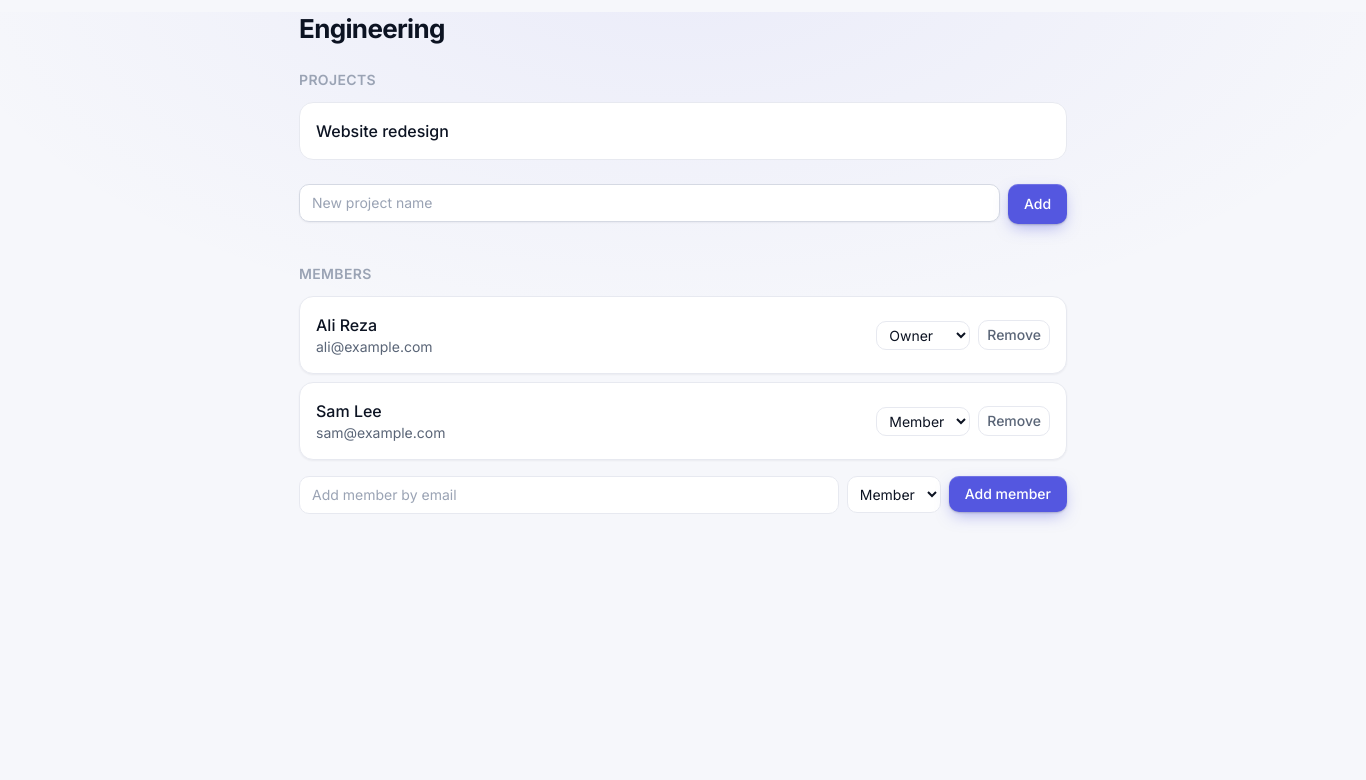
Scenario: TeamPage › creates a new project
The image size is (1366, 780).
Check: the text "Website redesign" is shown, box [316,121,449,141]
Step 1. Type "Mobile app" into the field with placeholder "New project name" → (649, 203), box [299,184,1000,222]
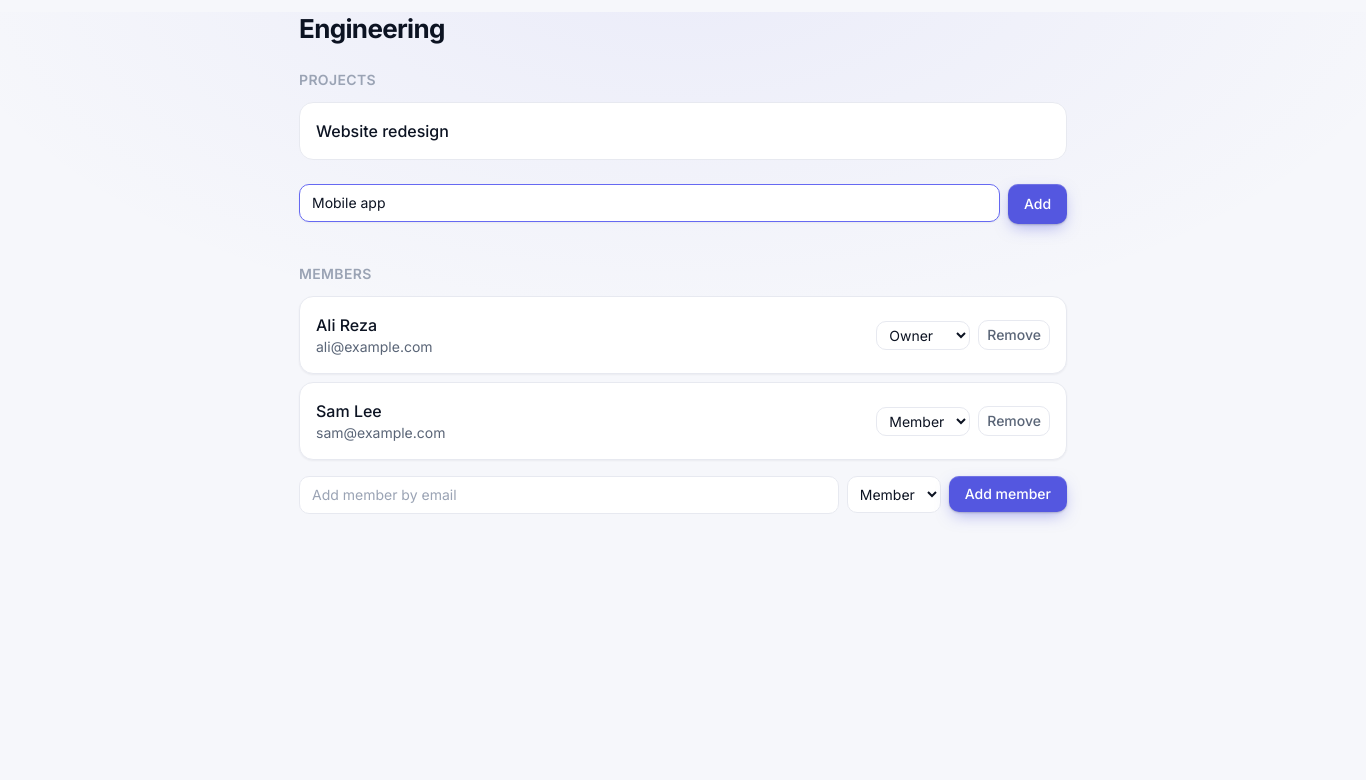
Step 2. Click the button named "Add" → (1037, 204), box [1008,184,1067,224]
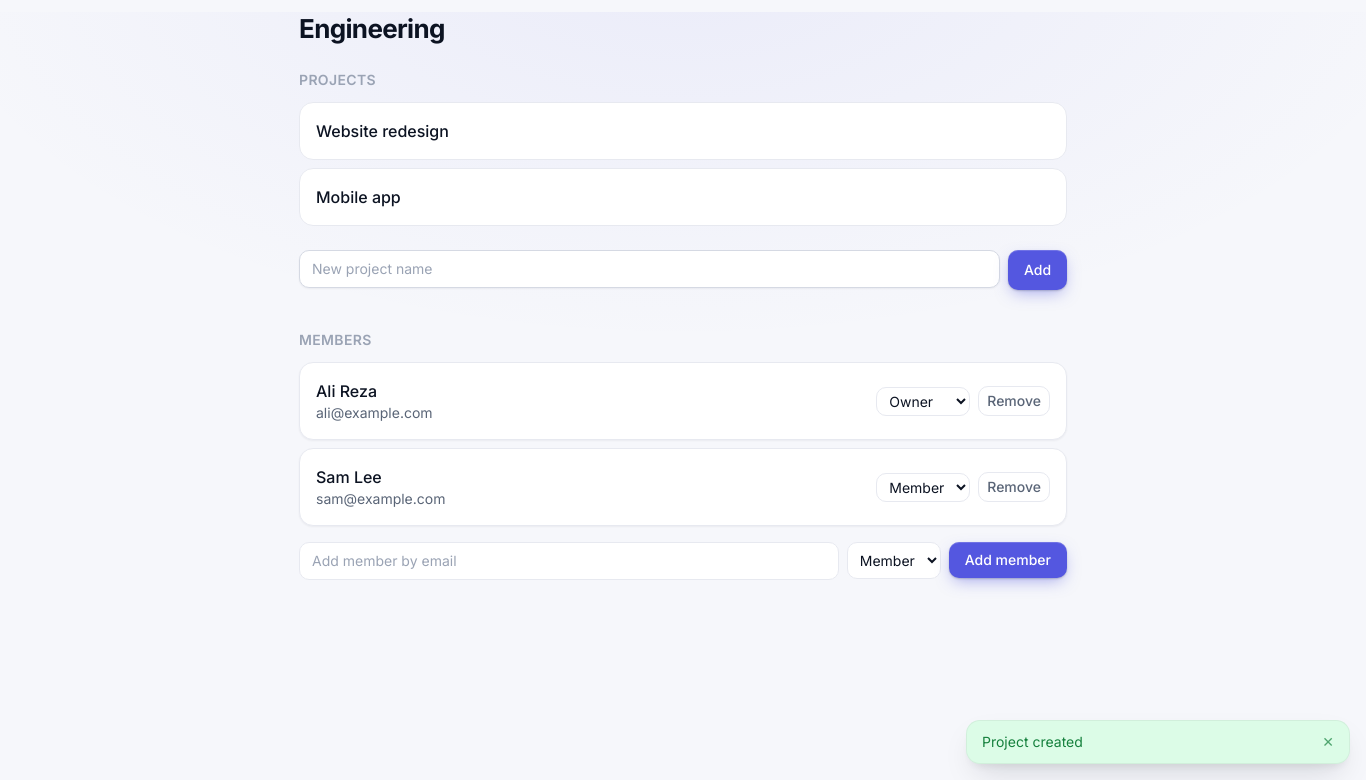
Check: the text "Mobile app" is shown, box [316,187,401,207]
